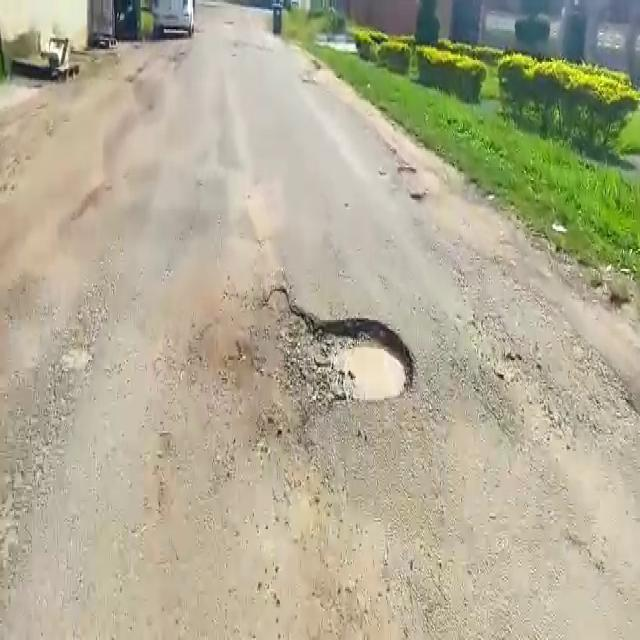pothole: (251, 291, 424, 416)
